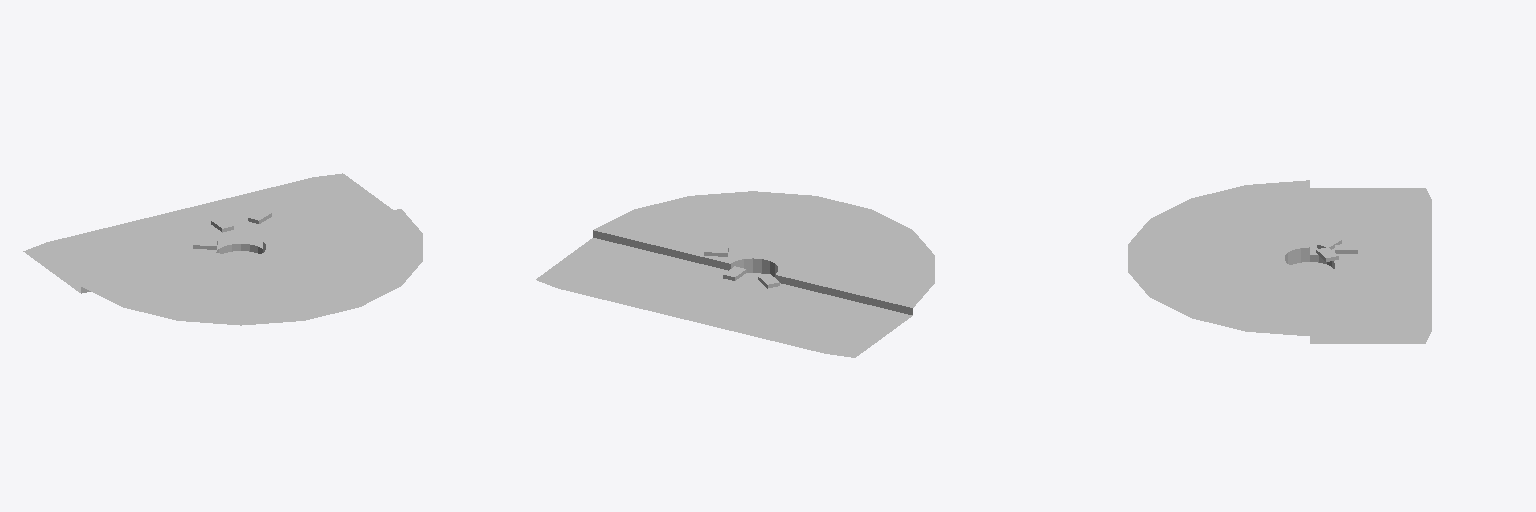
File: level.obj
The picture shows the model from 3 angles: view 1: azimuth 30°, elevation 25°; view 2: azimuth 150°, elevation 25°; view 3: azimuth 270°, elevation 25°; orthographic projection.
Visible parts, largest first — view 1: room_; view 2: room_; view 3: room_.
Boxes of the visible parts, x1=… form: room_: x1=23, y1=173, x2=422, y2=325; room_: x1=536, y1=191, x2=934, y2=357; room_: x1=1128, y1=180, x2=1431, y2=343.
Size of the model in its own units: 1363 by 137 by 1123.